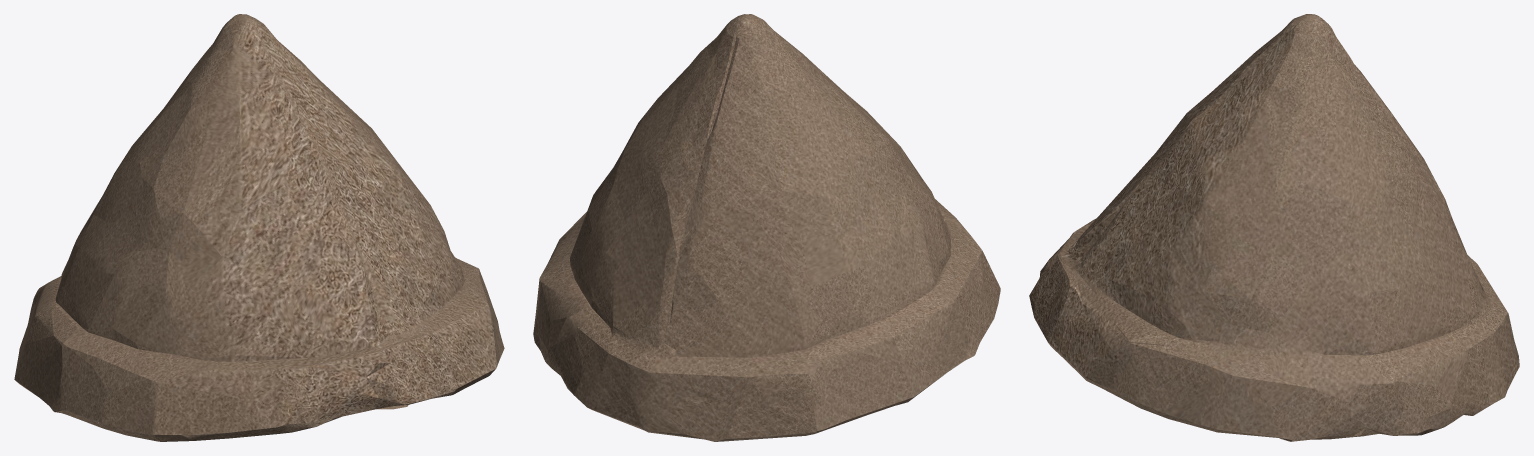
File: farmer.glb
3 renders of one model, left to right at view 1: azimuth 30°, elevation 25°; view 2: azimuth 150°, elevation 25°; view 3: azimuth 270°, elevation 25°, orthographic. The views are drawn at different scales.
Parts seen in each view (by area): view 1: Module_occupation_farmer_0; view 2: Module_occupation_farmer_0; view 3: Module_occupation_farmer_0.
Part boxes in pixels (bbox=[...]): Module_occupation_farmer_0: bbox=[14, 14, 504, 441]; Module_occupation_farmer_0: bbox=[533, 14, 1000, 441]; Module_occupation_farmer_0: bbox=[1029, 14, 1519, 441].
Bounding box in the file's own units: 0.1967 × 0.1601 × 0.1998.
1 material, 1 textured.
